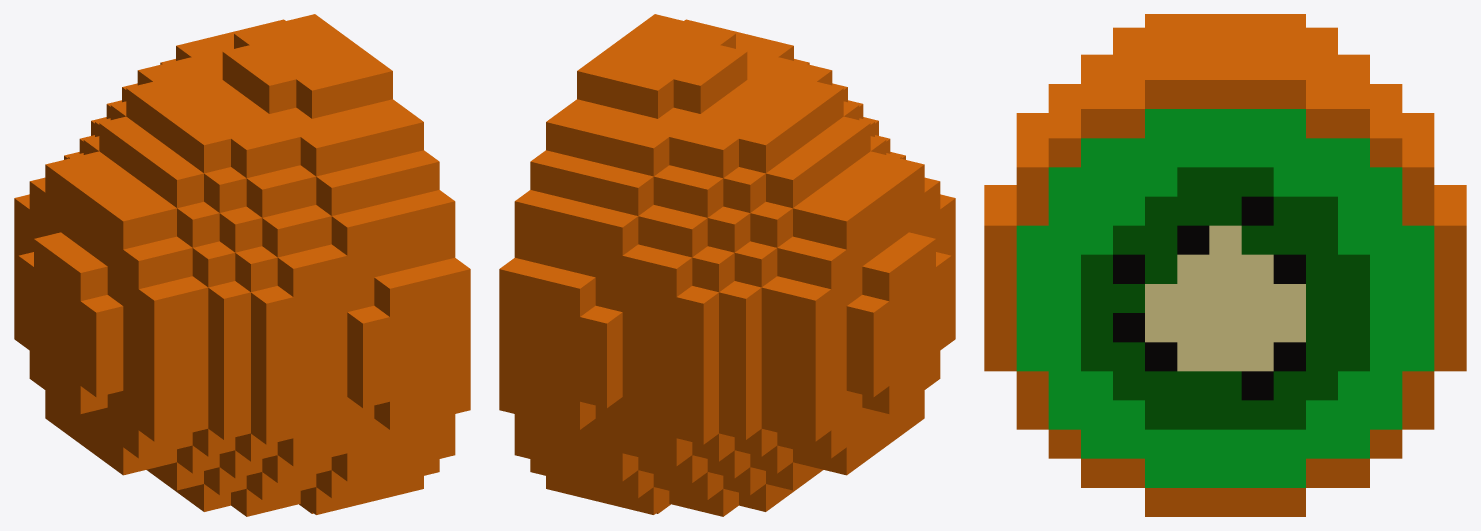
File: Kiwi.fbx
3 views of the same model, side by side, from view 1: azimuth 30°, elevation 25°; view 2: azimuth 150°, elevation 25°; view 3: azimuth 270°, elevation 25° (orthographic). The views are drawn at different scales.
Visible parts, largest first — view 1: Untitled; view 2: Untitled; view 3: Untitled.
Boxes of the visible parts, left/top/right/bottom form: Untitled: left=14, top=14, right=470, bottom=516; Untitled: left=499, top=14, right=955, bottom=516; Untitled: left=984, top=14, right=1466, bottom=516.
Bounding box in the file's own units: 110 × 150 × 150.
